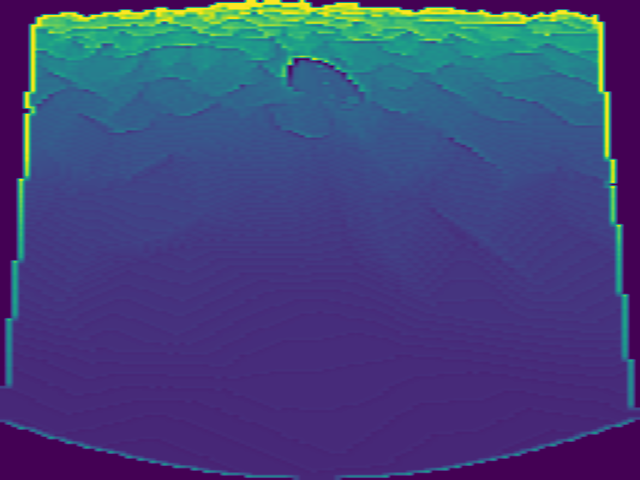car_0198: (283, 55, 362, 97)
